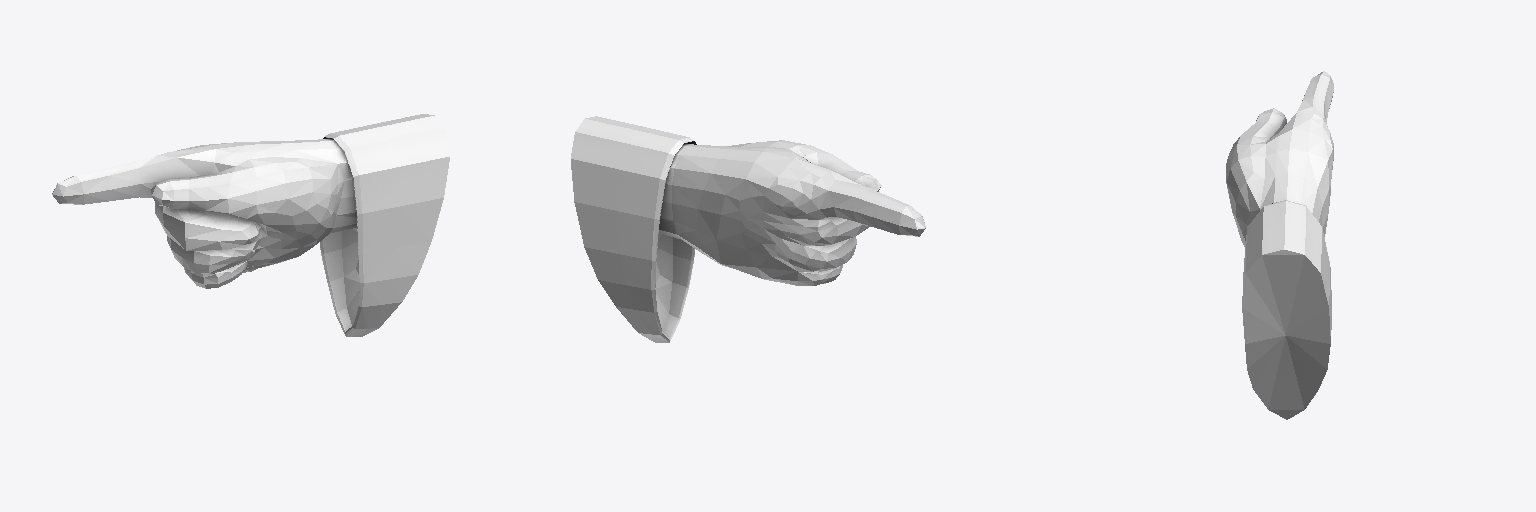
3 views of the same model, side by side, from view 1: azimuth 30°, elevation 25°; view 2: azimuth 150°, elevation 25°; view 3: azimuth 270°, elevation 25° (orthographic).
Parts seen in each view (by area): view 1: hand; view 2: hand; view 3: hand.
Part boxes in pixels (x1,y1,x2,y2): hand: (52,114,449,336); hand: (571,116,925,342); hand: (1226,71,1333,419).
Bounding box in the file's own units: 0.4097 × 0.2393 × 0.1064.
Materials: 1 (1 with a texture image).